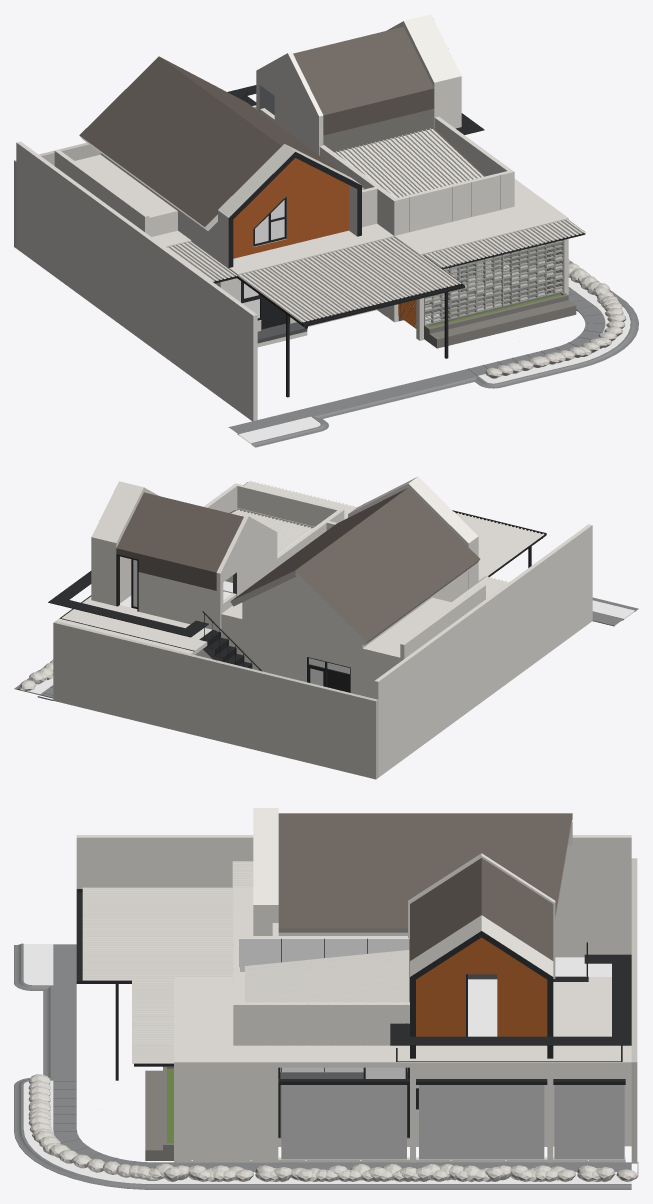
The model's file is ldy-house.glb.
3 renders of one model, top to bottom at view 1: azimuth 30°, elevation 25°; view 2: azimuth 150°, elevation 25°; view 3: azimuth 270°, elevation 25°, orthographic. The views are drawn at different scales.
Parts seen in each view (by area): view 1: dinding, atap, paving, kisi, pagar, beton, baja, kerikil, rumput, abu, kaca; view 2: dinding, kerikil, atap, baja, kaca, rumput, paving; view 3: dinding, atap, roster, paving, kerikil, baja, kisi, kayu, rumput, beton, abu.
Part boxes in pixels (x1,y1,x2,y2): dinding: (16,14,585,421); atap: (79,26,485,226); paving: (228,261,638,447); kisi: (233,158,416,328); pagar: (424,240,563,325); beton: (323,108,576,348); baja: (213,85,585,397); kerikil: (14,101,626,444); rumput: (239,278,630,443); abu: (257,85,552,343); kaca: (242,200,460,318); dinding: (56,476,592,777); kerikil: (20,611,634,779); atap: (116,487,479,641); baja: (48,482,546,692); kaca: (133,559,349,685); rumput: (21,600,634,693); paving: (14,597,638,700); dinding: (76,808,637,1162); atap: (278,813,572,1002); roster: (281,1085,624,1159); paving: (14,943,638,1189); kerikil: (28,858,638,1181); baja: (76,889,631,1137); kisi: (416,937,547,1036); kayu: (239,938,611,1072); rumput: (23,944,631,1183); beton: (145,1066,418,1160); abu: (278,974,497,1138).
Size of the model in its own units: 14.75 by 6.46 by 15.94.
